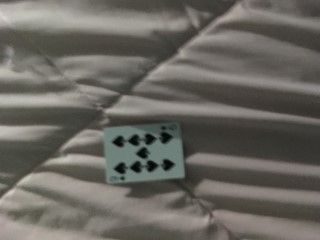NineOfSpades: (104, 123, 185, 182)
